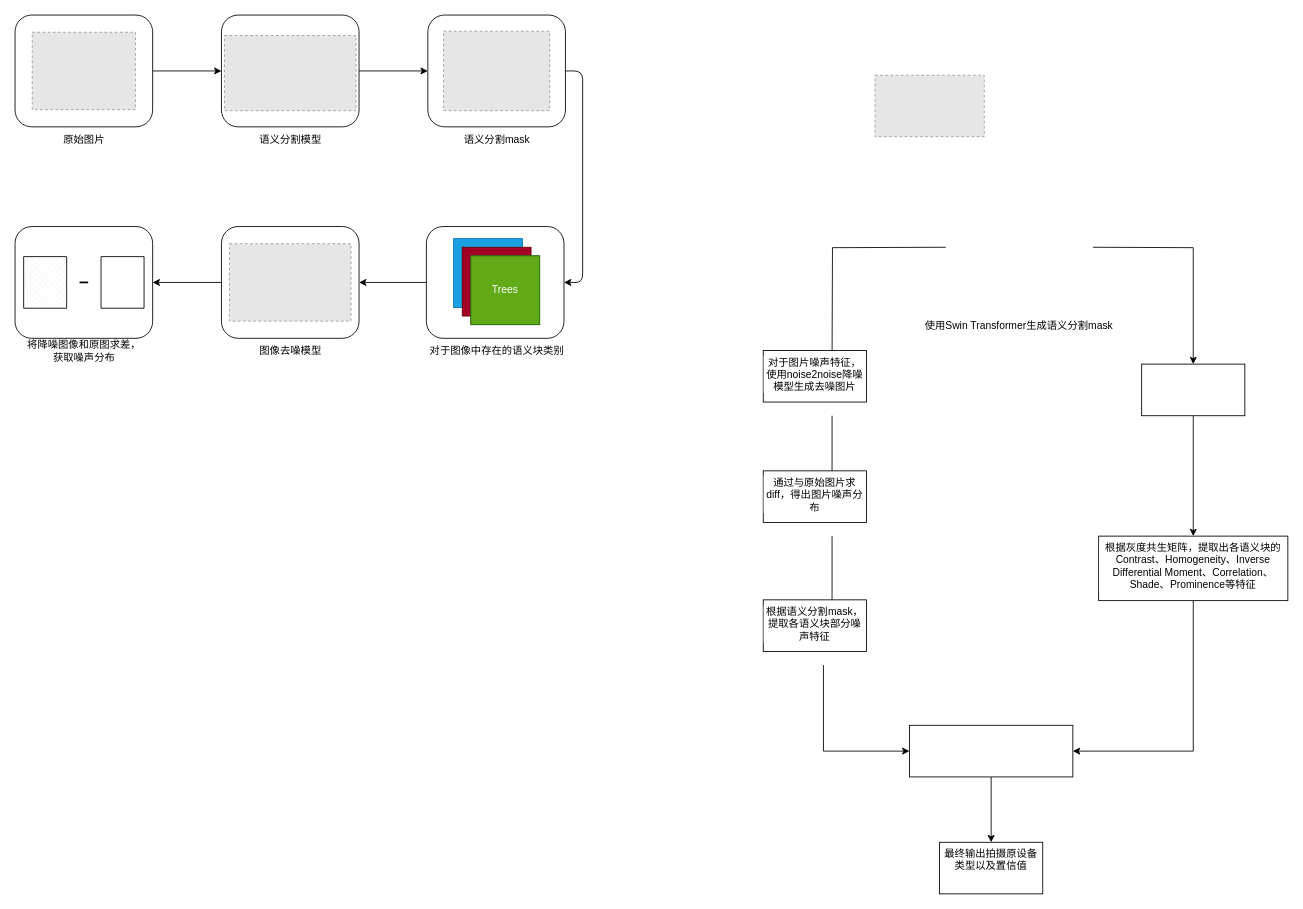
This 1303x909 diagram has some shape labels left out. Grey dashed boxes stand in for pictures. The centre of each missing label's shape, as x and y in pixels:
原始图像: the point at 45,282
去噪图像: the point at 122,282
对于图像各语义块其余部分特征，生成图像灰度共生矩阵: the point at 1193,389
将噪声特征和灰度共生矩阵特征合并，按照语义块类别分组，输入random decision forests进行分类: the point at 991,750
